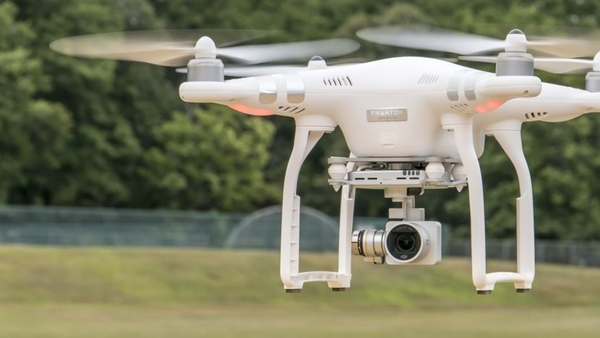drone: (43, 14, 600, 300)
